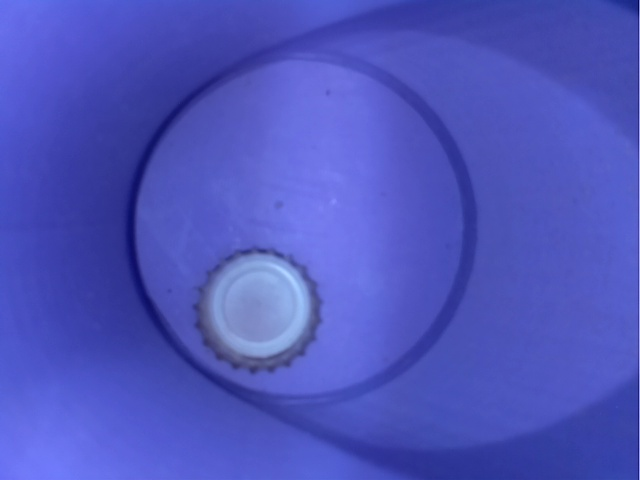capsule: (168, 235, 364, 389)
